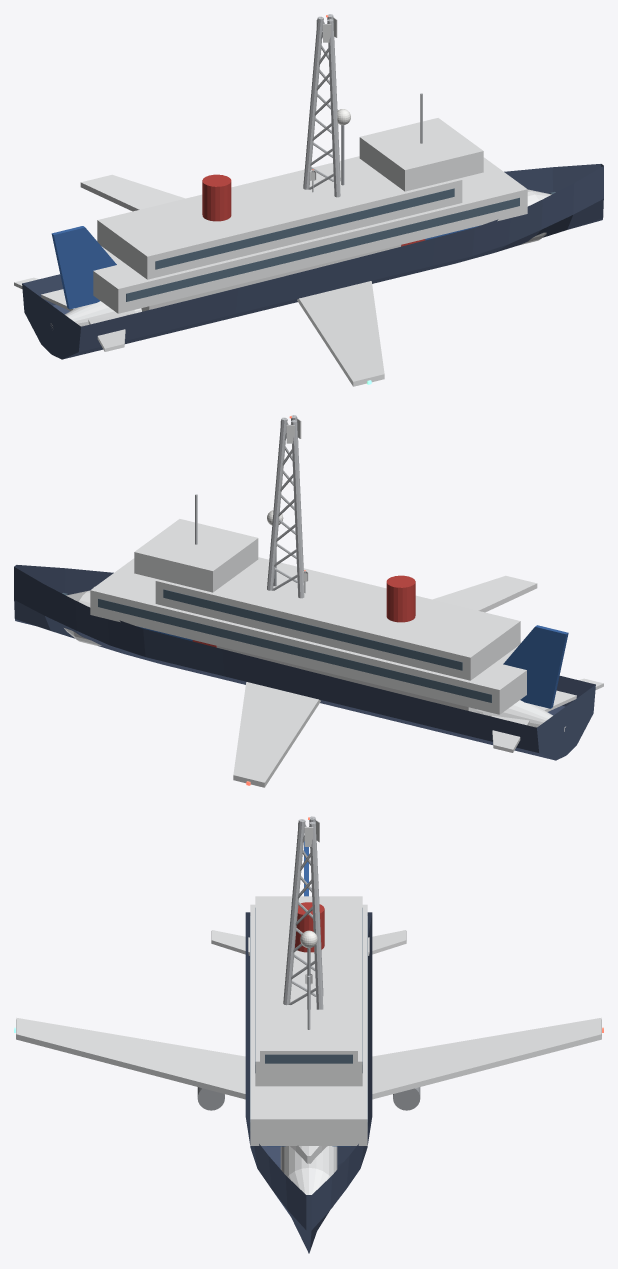
File: jamsim_assets.glb
The picture shows the model from 3 angles, top to bottom: view 1: azimuth 30°, elevation 25°; view 2: azimuth 150°, elevation 25°; view 3: azimuth 270°, elevation 25°; orthographic projection. The views are drawn at different scales.
Visible parts, largest first — view 1: Ferry_Hull, Ferry_Deck2, Ferry_Deck1, Ferry_Bridge, AC_Wing-1, Ferry_Win5.2-1, AC_Fin, Ferry_Win8.0-1, AC_Wing1, Ferry_Funnel, Tower_Leg1, Tower_Leg2 (+3 smaller); view 2: Ferry_Hull, Ferry_Deck2, Ferry_Deck1, Ferry_Bridge, AC_Wing1, Ferry_Win5.21, AC_Fin, Ferry_Win8.01, AC_Wing-1, Ferry_Funnel, Tower_Leg0, Tower_Leg1 (+3 smaller); view 3: Ferry_Deck2, Ferry_Deck1, AC_Wing-1, AC_Wing1, Ferry_Hull, Ferry_Bridge, Tower_Leg2, AC_Fuselage, Tower_Leg0, Ferry_BridgeWin, Ferry_Funnel, AC_Nose (+2 smaller).
Boxes of the visible parts, bbox=[...] form: Ferry_Hull: bbox=[22, 164, 603, 359]; Ferry_Deck2: bbox=[97, 156, 462, 279]; Ferry_Deck1: bbox=[93, 157, 527, 313]; Ferry_Bridge: bbox=[359, 118, 483, 191]; AC_Wing-1: bbox=[297, 281, 384, 386]; Ferry_Win5.2-1: bbox=[126, 197, 519, 301]; AC_Fin: bbox=[51, 226, 116, 309]; Ferry_Win8.0-1: bbox=[155, 188, 454, 269]; AC_Wing1: bbox=[80, 174, 185, 211]; Ferry_Funnel: bbox=[202, 174, 231, 221]; Tower_Leg1: bbox=[303, 16, 323, 189]; Tower_Leg2: bbox=[327, 19, 340, 197]; Ferry_Hull: bbox=[14, 565, 595, 760]; Ferry_Deck2: bbox=[155, 557, 520, 680]; Ferry_Deck1: bbox=[90, 558, 526, 714]; Ferry_Bridge: bbox=[134, 519, 258, 592]; AC_Wing1: bbox=[233, 682, 320, 787]; Ferry_Win5.21: bbox=[98, 598, 491, 702]; AC_Fin: bbox=[503, 625, 568, 708]; Ferry_Win8.01: bbox=[163, 589, 462, 670]; AC_Wing-1: bbox=[432, 575, 537, 612]; Ferry_Funnel: bbox=[386, 575, 415, 622]; Tower_Leg0: bbox=[267, 417, 287, 590]; Tower_Leg1: bbox=[291, 420, 304, 598]; Ferry_Deck2: bbox=[255, 896, 362, 1086]; Ferry_Deck1: bbox=[250, 904, 367, 1145]; AC_Wing-1: bbox=[16, 1017, 245, 1099]; AC_Wing1: bbox=[372, 1017, 601, 1099]; Ferry_Hull: bbox=[245, 912, 372, 1253]; Ferry_Bridge: bbox=[260, 1009, 357, 1073]; Tower_Leg2: bbox=[283, 819, 305, 1005]; AC_Fuselage: bbox=[280, 1146, 337, 1176]; Tower_Leg0: bbox=[309, 822, 323, 1009]; Ferry_BridgeWin: bbox=[265, 1054, 352, 1063]; Ferry_Funnel: bbox=[295, 902, 324, 952]; AC_Nose: bbox=[288, 1168, 333, 1207].
Size of the model in its own units: 70 by 33.3 by 60.4.
